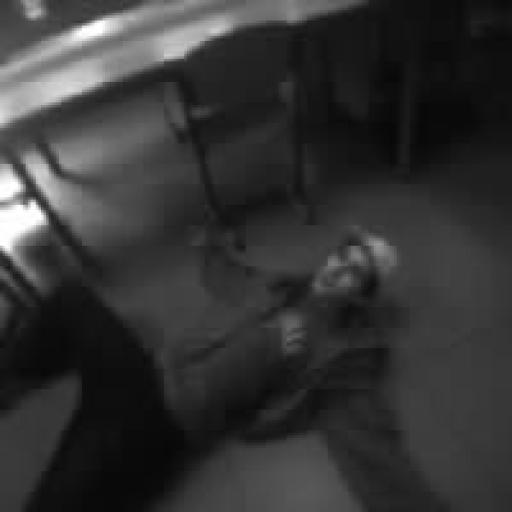human: (0, 202, 456, 512)
